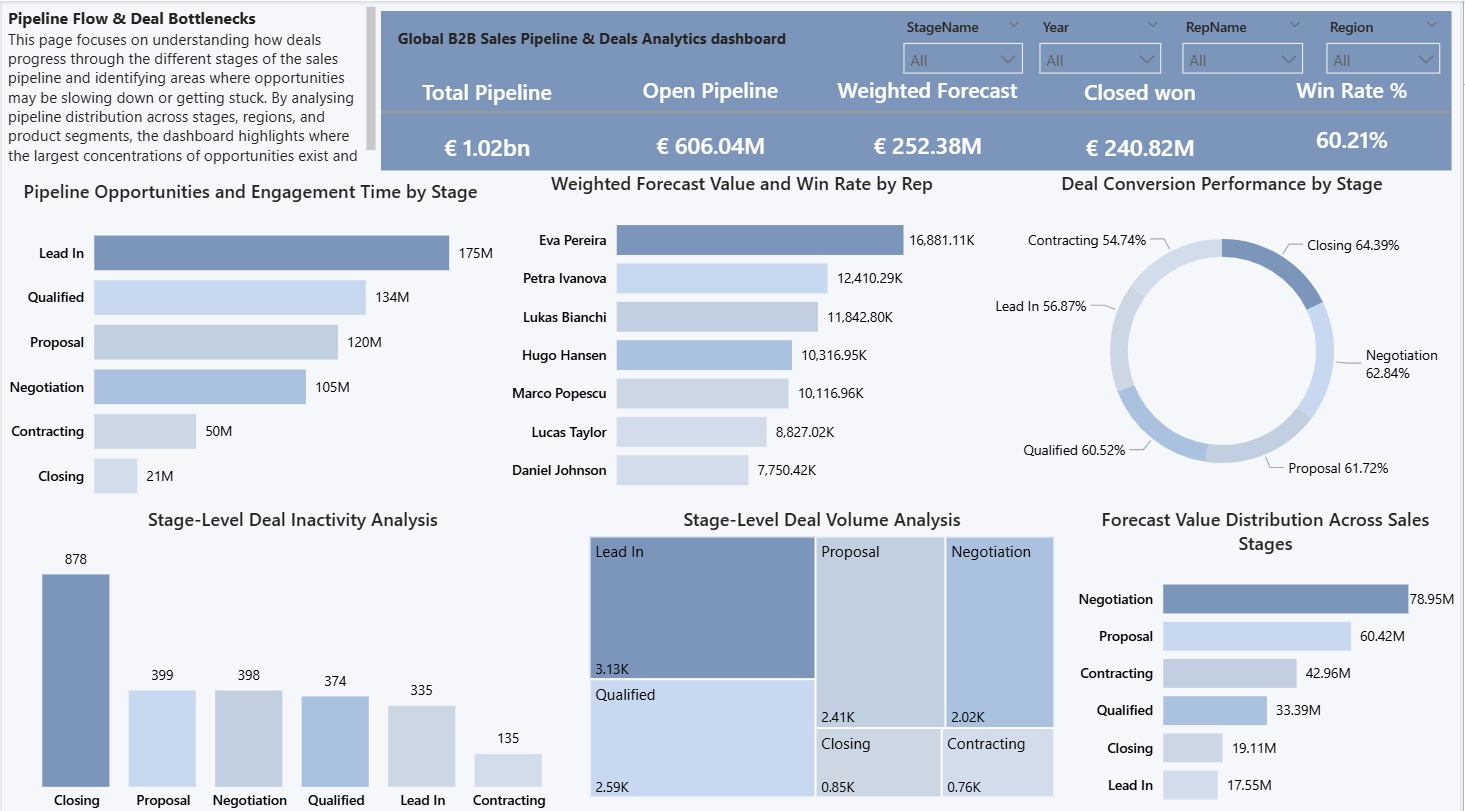

The dashboard page shown, as its layout file describes it:
{"tool":"powerbi","page":{"name":"Pipeline Flow + Bottlenecks","canvas":[1280,720],"ordinal":1},"visuals":[{"type":"shape","box":[332.8,8.8,940.4,140.5],"z":0},{"type":"card","title":"Total Pipeline","fields":{"Values":["Pipeline + Revenue.Total Pipeline"]},"box":[332.8,66.7,186.1,101.9],"z":1000},{"type":"card","title":"Open Pipeline","fields":{"Values":["Pipeline + Revenue.Open Pipeline"]},"box":[524,65,195.8,101.9],"z":2000},{"type":"card","title":"Weighted Forecast","fields":{"Values":["Forecasting.Weighted Forecast"]},"box":[724.8,65,176.5,101.9],"z":3000},{"type":"card","title":"Closed won","fields":{"Values":["Pipeline + Revenue.Closed Won"]},"box":[906.4,66.7,186.1,101.9],"z":4000},{"type":"card","title":"Win Rate %","fields":{"Values":["Pipeline + Revenue.Win Rate %"]},"box":[1097.6,65,175.6,91.3],"z":5000},{"type":"shape","box":[332.8,89.6,940.4,15.8],"z":6000},{"type":"clusteredBarChart","title":"Pipeline Opportunities and Engagement Time by Stage","fields":{"Category":["FactDeals.StageName"],"Y":["Pipeline + Revenue.Open Pipeline €"]},"box":[0,156.3,436.4,297.7],"z":7000},{"type":"clusteredColumnChart","title":"Stage-Level Deal Inactivity Analysis","fields":{"Category":["FactDeals.StageName"],"Y":["Activity + Engagement impact.Avg Days Since Last Activity"]},"box":[0,444.3,511,275.7],"z":8000},{"type":"clusteredBarChart","title":"Weighted Forecast Value and Win Rate by Rep","fields":{"Y":["Forecasting.Weighted Forecast"],"Category":["DimSalesRep.RepName"]},"box":[440.8,149.3,418,295],"z":9000},{"type":"slicer","fields":{"Values":["DimCompany.Region"]},"box":[1152.9,8.8,120.3,61.5],"z":10000},{"type":"slicer","fields":{"Values":["DimSalesRep.RepName"]},"box":[1026.4,8.8,126.4,61.5],"z":11000},{"type":"slicer","fields":{"Values":["DimDate.Year"]},"box":[900.9,8.8,127.3,61.5],"z":12000},{"type":"slicer","fields":{"Values":["FactDeals.StageName"]},"box":[781.5,8.8,124.7,61.5],"z":13000},{"type":"treemap","title":"Stage-Level Deal Volume Analysis","fields":{"Group":["FactDeals.StageName"],"Values":["Pipeline + Revenue.Deal Count"]},"box":[511,444.3,418,259.9],"z":14000},{"type":"donutChart","title":"Deal Conversion Performance by Stage","fields":{"Category":["FactDeals.StageName"],"Y":["Pipeline + Revenue.Win Rate %"]},"box":[862.2,149.3,418,295],"z":15000},{"type":"clusteredBarChart","title":"Forecast Value Distribution Across Sales Stages","fields":{"Category":["FactDeals.StageName"],"Y":["Forecasting.Weighted Forecast"]},"box":[938.6,444.3,341.6,275.7],"z":16000},{"type":"textbox","box":[0,0,332.8,150.1],"z":17000},{"type":"textbox","box":[342.4,18.4,353.9,50],"z":17001}]}

Visuals, with their boxes in screenshot pixels (x1, y1, x2, y2), scaled from the page's 1280x720 canvas onto the 1465x811 screenshot:
shape: (381, 10, 1457, 168)
"Total Pipeline" card: (381, 75, 594, 190)
"Open Pipeline" card: (600, 73, 824, 188)
"Weighted Forecast" card: (830, 73, 1032, 188)
"Closed won" card: (1037, 75, 1250, 190)
"Win Rate %" card: (1256, 73, 1457, 176)
shape: (381, 101, 1457, 119)
"Pipeline Opportunities and Engagement Time by Stage" clusteredBarChart: (0, 176, 499, 511)
"Stage-Level Deal Inactivity Analysis" clusteredColumnChart: (0, 500, 585, 810)
"Weighted Forecast Value and Win Rate by Rep" clusteredBarChart: (505, 168, 983, 500)
slicer - DimCompany.Region: (1320, 10, 1457, 79)
slicer - DimSalesRep.RepName: (1175, 10, 1319, 79)
slicer - DimDate.Year: (1031, 10, 1177, 79)
slicer - FactDeals.StageName: (894, 10, 1037, 79)
"Stage-Level Deal Volume Analysis" treemap: (585, 500, 1063, 793)
"Deal Conversion Performance by Stage" donutChart: (987, 168, 1464, 500)
"Forecast Value Distribution Across Sales Stages" clusteredBarChart: (1074, 500, 1464, 810)
textbox: (0, 0, 381, 169)
textbox: (392, 21, 797, 77)
